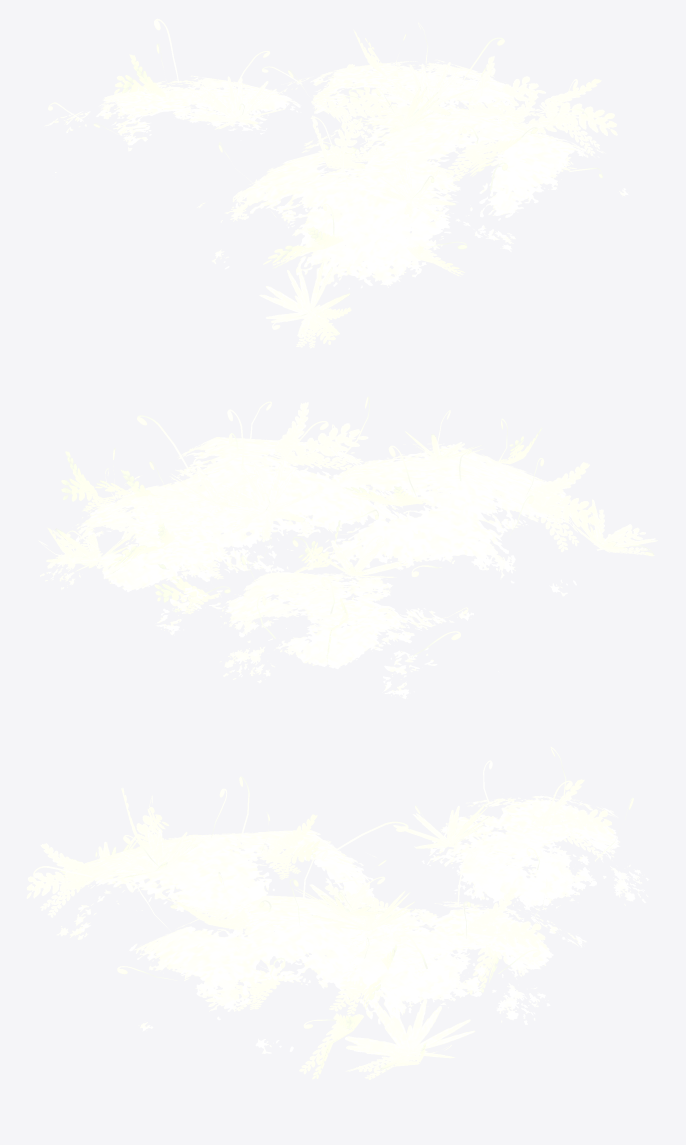
The picture shows the model from 3 angles, top to bottom: view 1: azimuth 30°, elevation 25°; view 2: azimuth 150°, elevation 25°; view 3: azimuth 270°, elevation 25°; orthographic projection. The views are drawn at different scales.
Parts seen in each view (by area): view 1: SM_BM_Moss_02_LOD0; view 2: SM_BM_Moss_02_LOD0; view 3: SM_BM_Moss_02_LOD0.
Part boxes in pixels (x1,y1,x2,y2): SM_BM_Moss_02_LOD0: [44, 18, 628, 348]; SM_BM_Moss_02_LOD0: [38, 396, 657, 698]; SM_BM_Moss_02_LOD0: [26, 747, 649, 1079].
Bounding box in the file's own units: 0.2351 × 0.0748 × 0.2294.
Materials: 1 (1 with a texture image).
